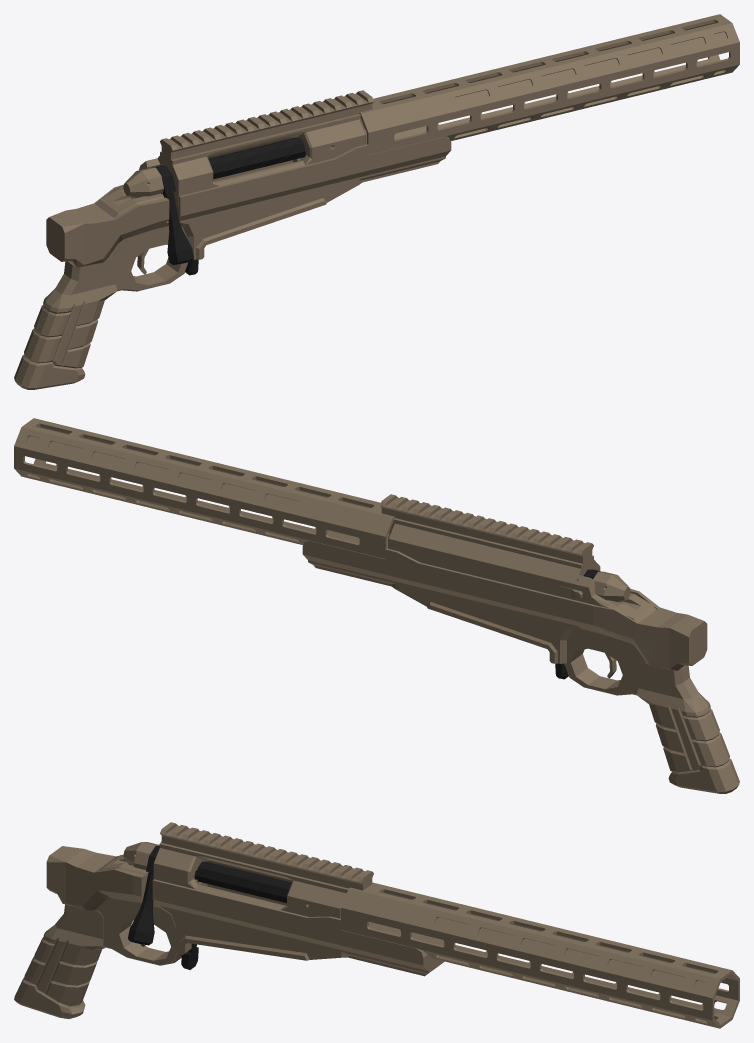
Rendered from c14_timberwolf.glb.
3 renders of one model, top to bottom at view 1: azimuth 30°, elevation 25°; view 2: azimuth 150°, elevation 25°; view 3: azimuth 330°, elevation 25°, orthographic.
Visible parts, largest first — view 1: c14 chassi_6, c14 receiver_10, c14 grip_7, c14 bolt_5 (×2); view 2: c14 chassi_6, c14 receiver_10, c14 grip_7, c14 bolt_5; view 3: c14 chassi_6, c14 receiver_10, c14 grip_7, c14 bolt_5 (×2).
Part boxes in pixels (x1,y1,x2,y2): c14 chassi_6: [46, 14, 739, 291]; c14 receiver_10: [96, 90, 373, 217]; c14 grip_7: [14, 258, 116, 389]; c14 bolt_5 (×2): [123, 137, 305, 264]; c14 chassi_6: [14, 418, 707, 695]; c14 receiver_10: [380, 494, 656, 622]; c14 grip_7: [637, 662, 739, 793]; c14 bolt_5: [593, 571, 630, 601]; c14 chassi_6: [46, 846, 739, 1028]; c14 receiver_10: [99, 822, 373, 918]; c14 grip_7: [14, 904, 105, 1018]; c14 bolt_5 (×2): [123, 842, 291, 945].
Size of the model in its own units: 6.67 by 1.91 by 0.6764.
